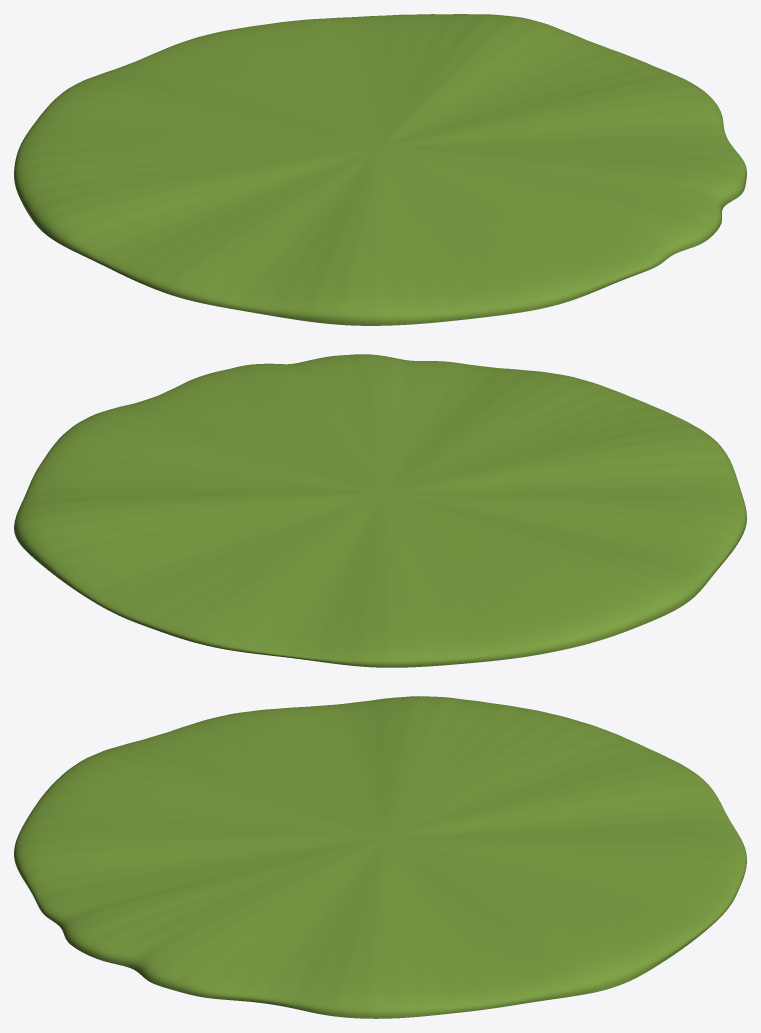
File: slablaadje.glb
3 views of the same model, one above another, from view 1: azimuth 30°, elevation 25°; view 2: azimuth 150°, elevation 25°; view 3: azimuth 270°, elevation 25° (orthographic).
Parts seen in each view (by area): view 1: Disc; view 2: Disc; view 3: Disc.
Boxes of the visible parts, x1,y1,x2,y2 form: Disc: (14,14,746,325); Disc: (14,354,746,667); Disc: (14,696,746,1018).
Size of the model in its own units: 1.16 by 0.0391 by 1.14.
